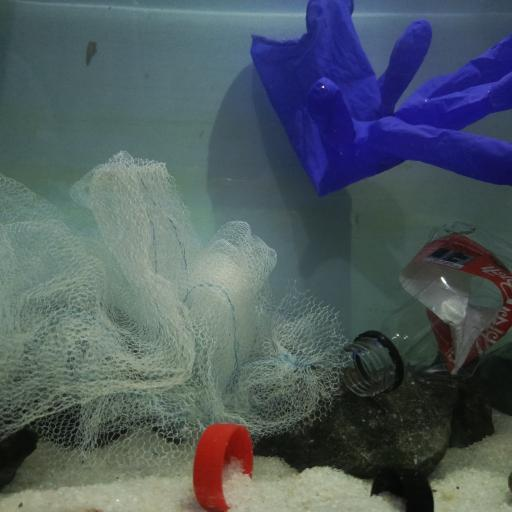bottle_cap: (194, 423, 254, 511), (372, 466, 436, 512)
glove: (246, 0, 512, 196)
net: (0, 150, 349, 458)
plastic_bottle: (343, 216, 510, 395)
